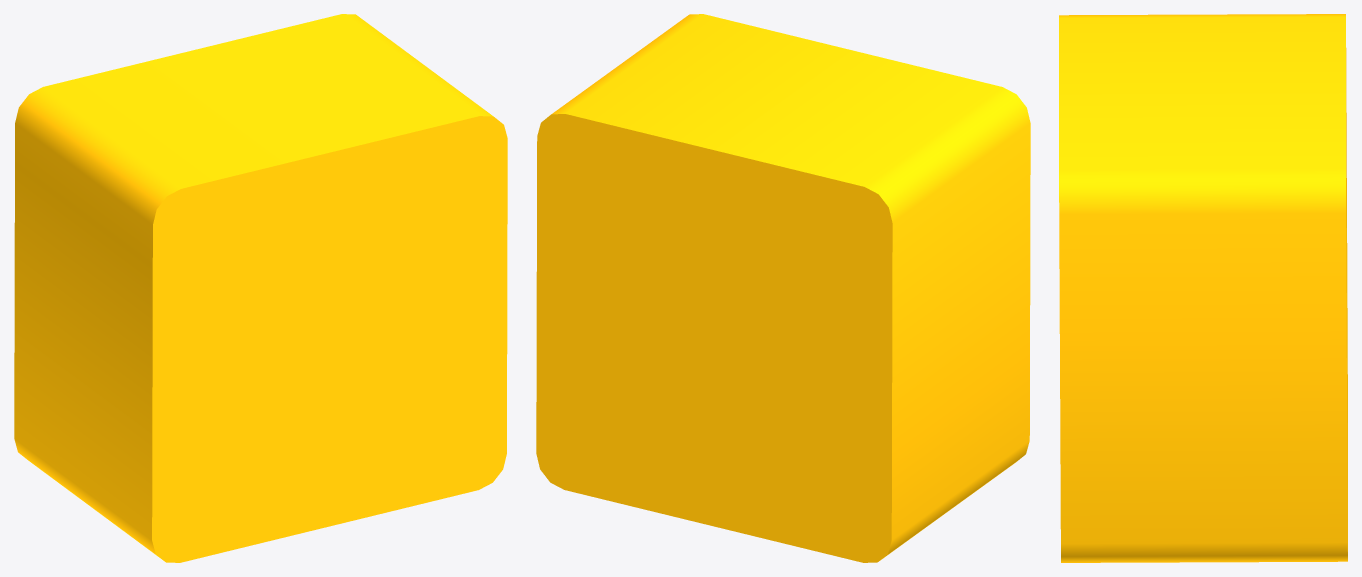
File: Jukebox_006_Button_Stop_2.glb
The picture shows the model from 3 angles, left to right: view 1: azimuth 30°, elevation 25°; view 2: azimuth 150°, elevation 25°; view 3: azimuth 270°, elevation 25°; orthographic projection. The views are drawn at different scales.
Parts seen in each view (by area): view 1: Box158; view 2: Box158; view 3: Box158.
Boxes of the visible parts, left/top/right/bottom form: Box158: left=14, top=14, right=507, bottom=562; Box158: left=536, top=14, right=1030, bottom=562; Box158: left=1059, top=14, right=1347, bottom=562.
Size of what is drawn, in the model's own units: 0.0902 by 0.0913 by 0.0611.
